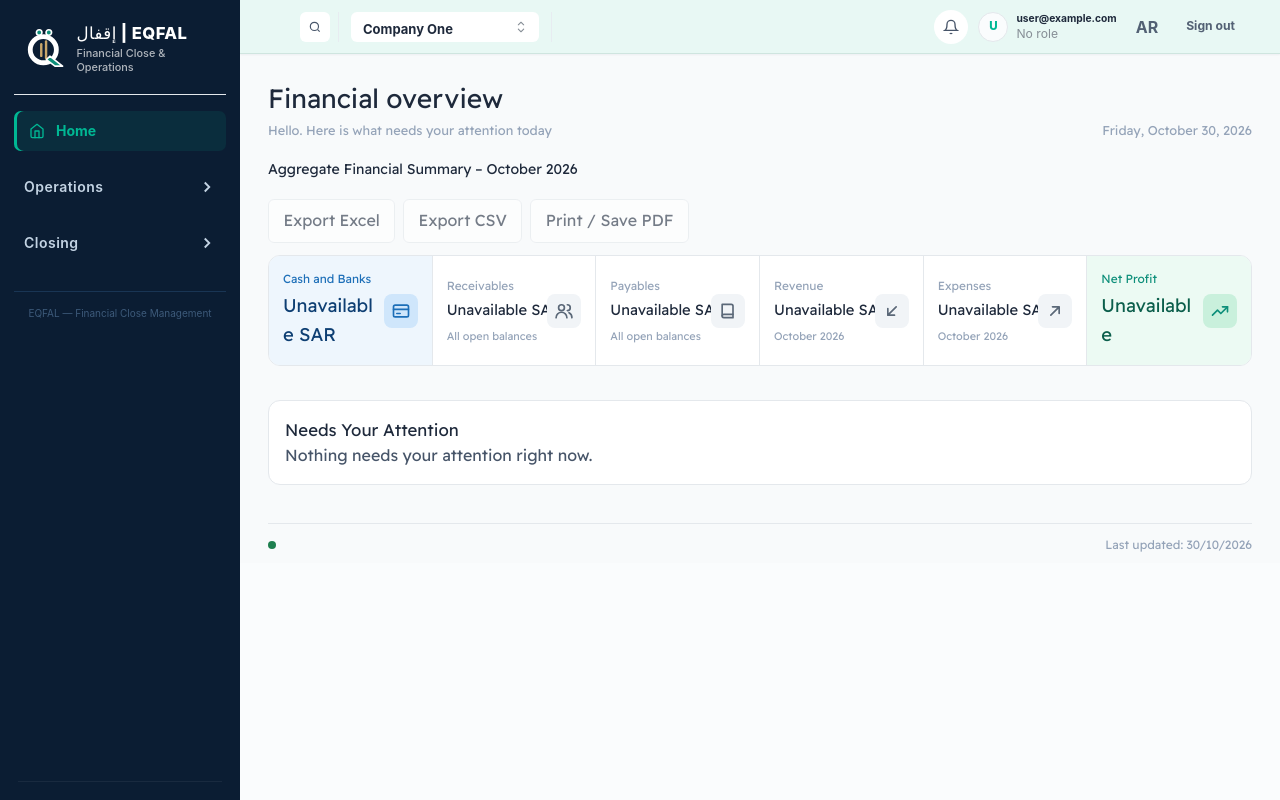
Test case: authenticated application shell › collapsible groups › expands, persists the preference, and hides empty groups
Click the button "Closing" at (120, 243), box [14,223,226,263]
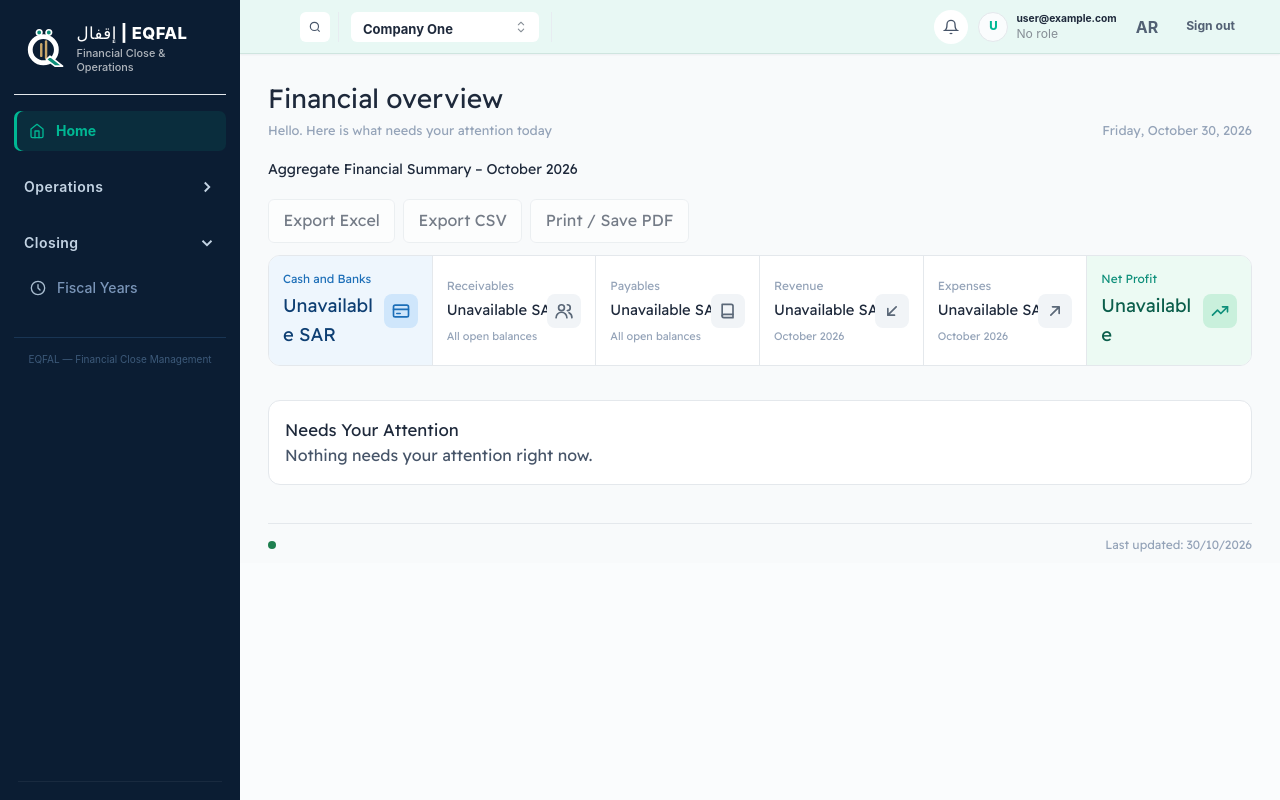
Expected: the button "Closing" is expanded
Expected: the button "Fiscal Years" is shown, [14,267,226,309]
Click the button "Closing" at (120, 243), box [14,223,226,263]
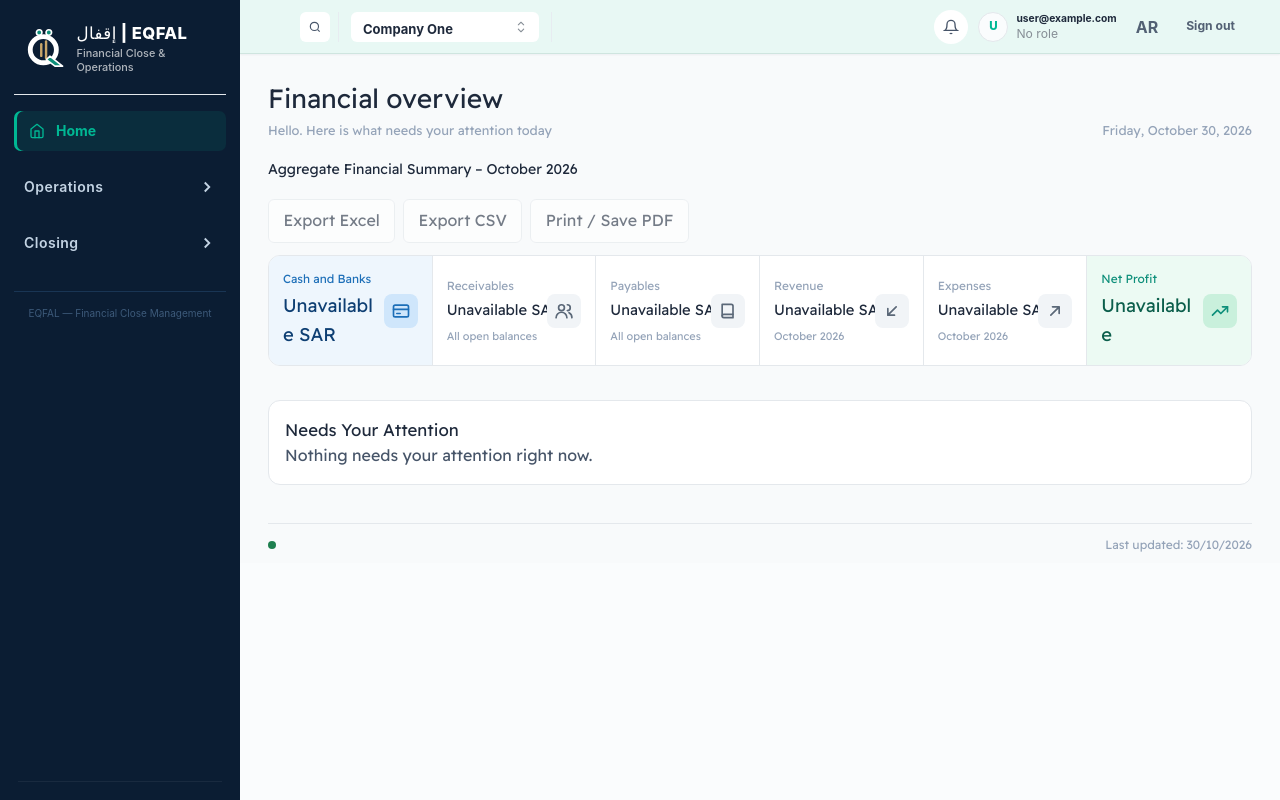
Expected: the button "Fiscal Years" is gone
